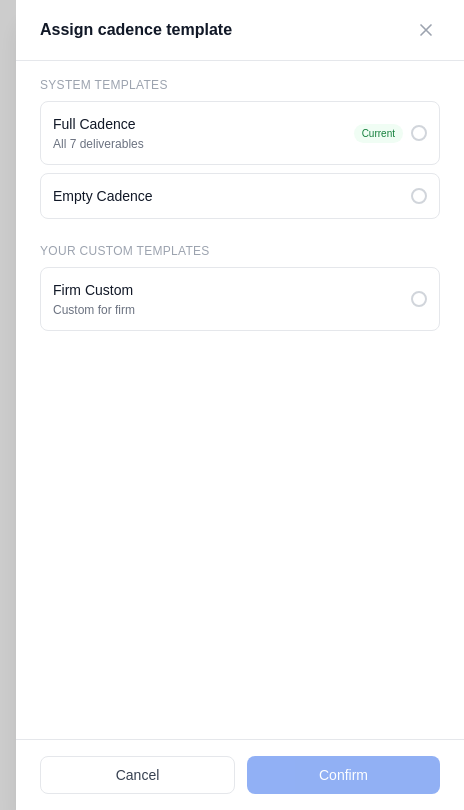
Scenario: AssignTemplateDrawer › Confirm button disabled until a different template selected
The width and height of the screenshot is (464, 810).
Expected: the button "Confirm" is disabled, [247,756,440,794]
Select the current template — Confirm still disabled
Click the text "Full Cadence".
click(98, 124)  # box [53,114,144,134]
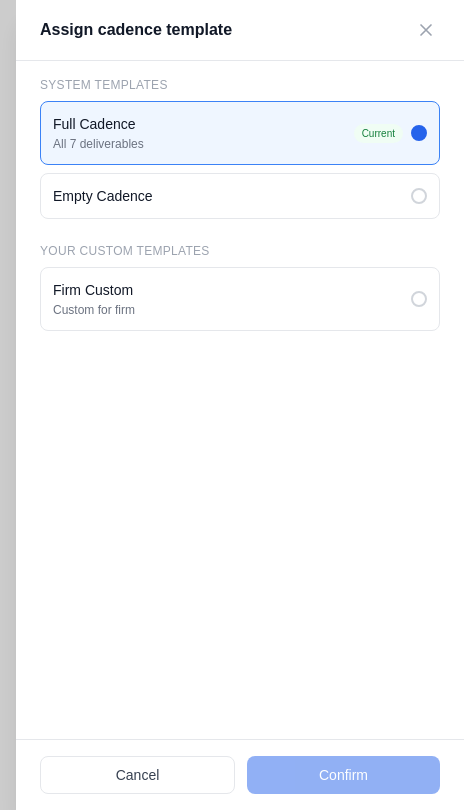
Expected: the button "Confirm" is disabled, [247,756,440,794]
Select a different template — Confirm enabled
Click the text "Firm Custom".
click(94, 290)  # box [53,280,135,300]
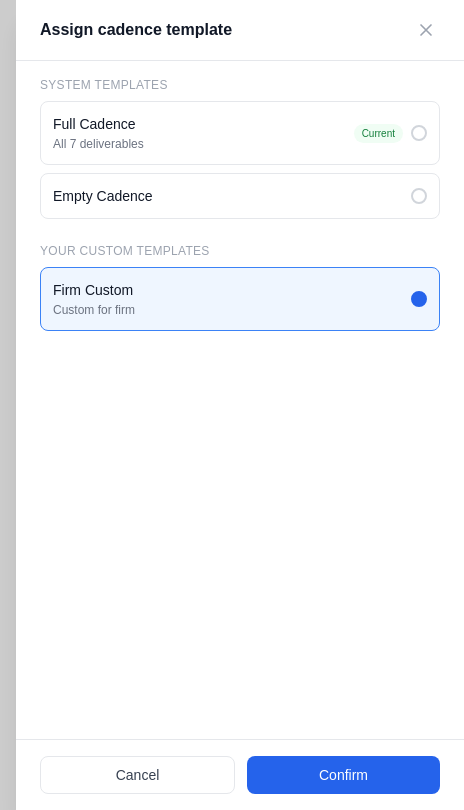
Result: the button "Confirm" is enabled at [247,756,440,794]
